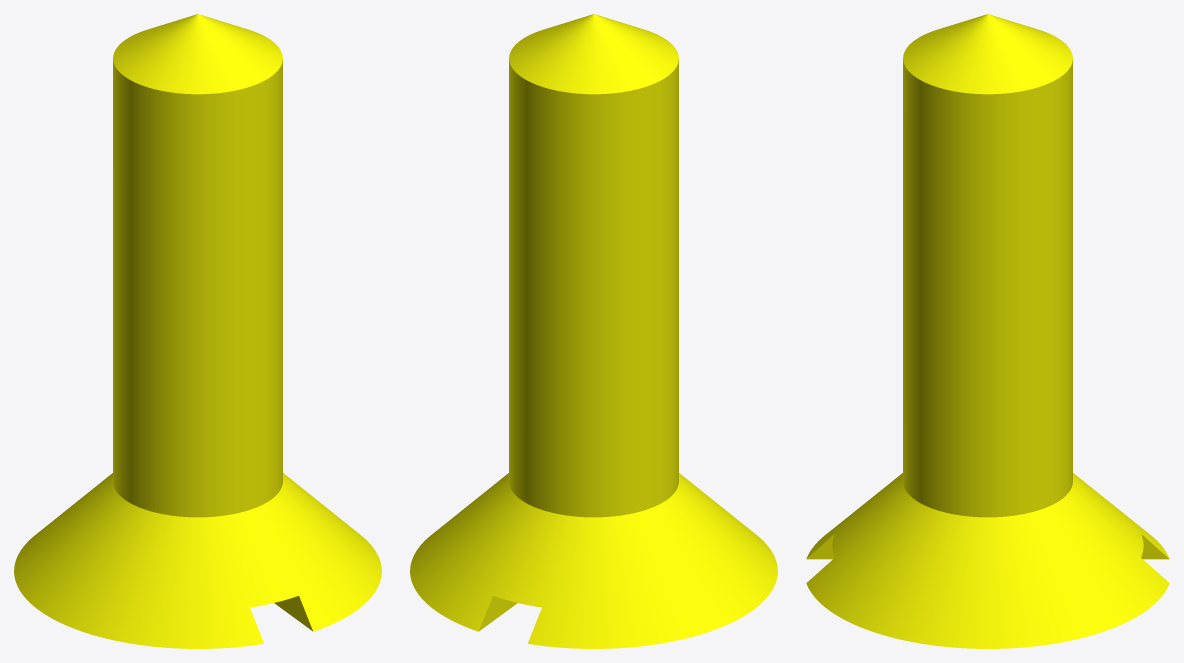
3 views of the same model, side by side, from view 1: azimuth 30°, elevation 25°; view 2: azimuth 150°, elevation 25°; view 3: azimuth 270°, elevation 25° (orthographic).
Parts seen in each view (by area): view 1: 切除-拉伸1; view 2: 切除-拉伸1; view 3: 切除-拉伸1.
Part boxes in pixels (<box>): 切除-拉伸1: <box>14,14,381,648</box>; 切除-拉伸1: <box>410,14,777,648</box>; 切除-拉伸1: <box>806,14,1169,648</box>.
Size of the model in its own units: 0.5118 by 0.8556 by 0.5057.
